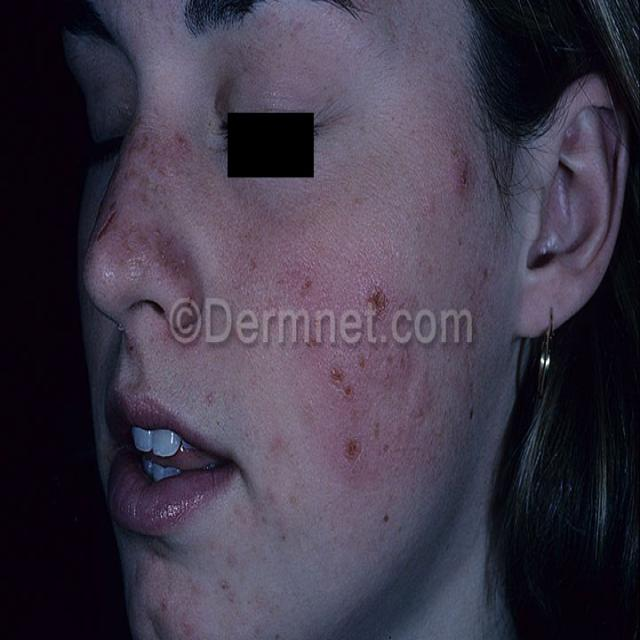acne: (314, 262, 442, 503), (111, 130, 193, 287), (433, 122, 496, 226)
